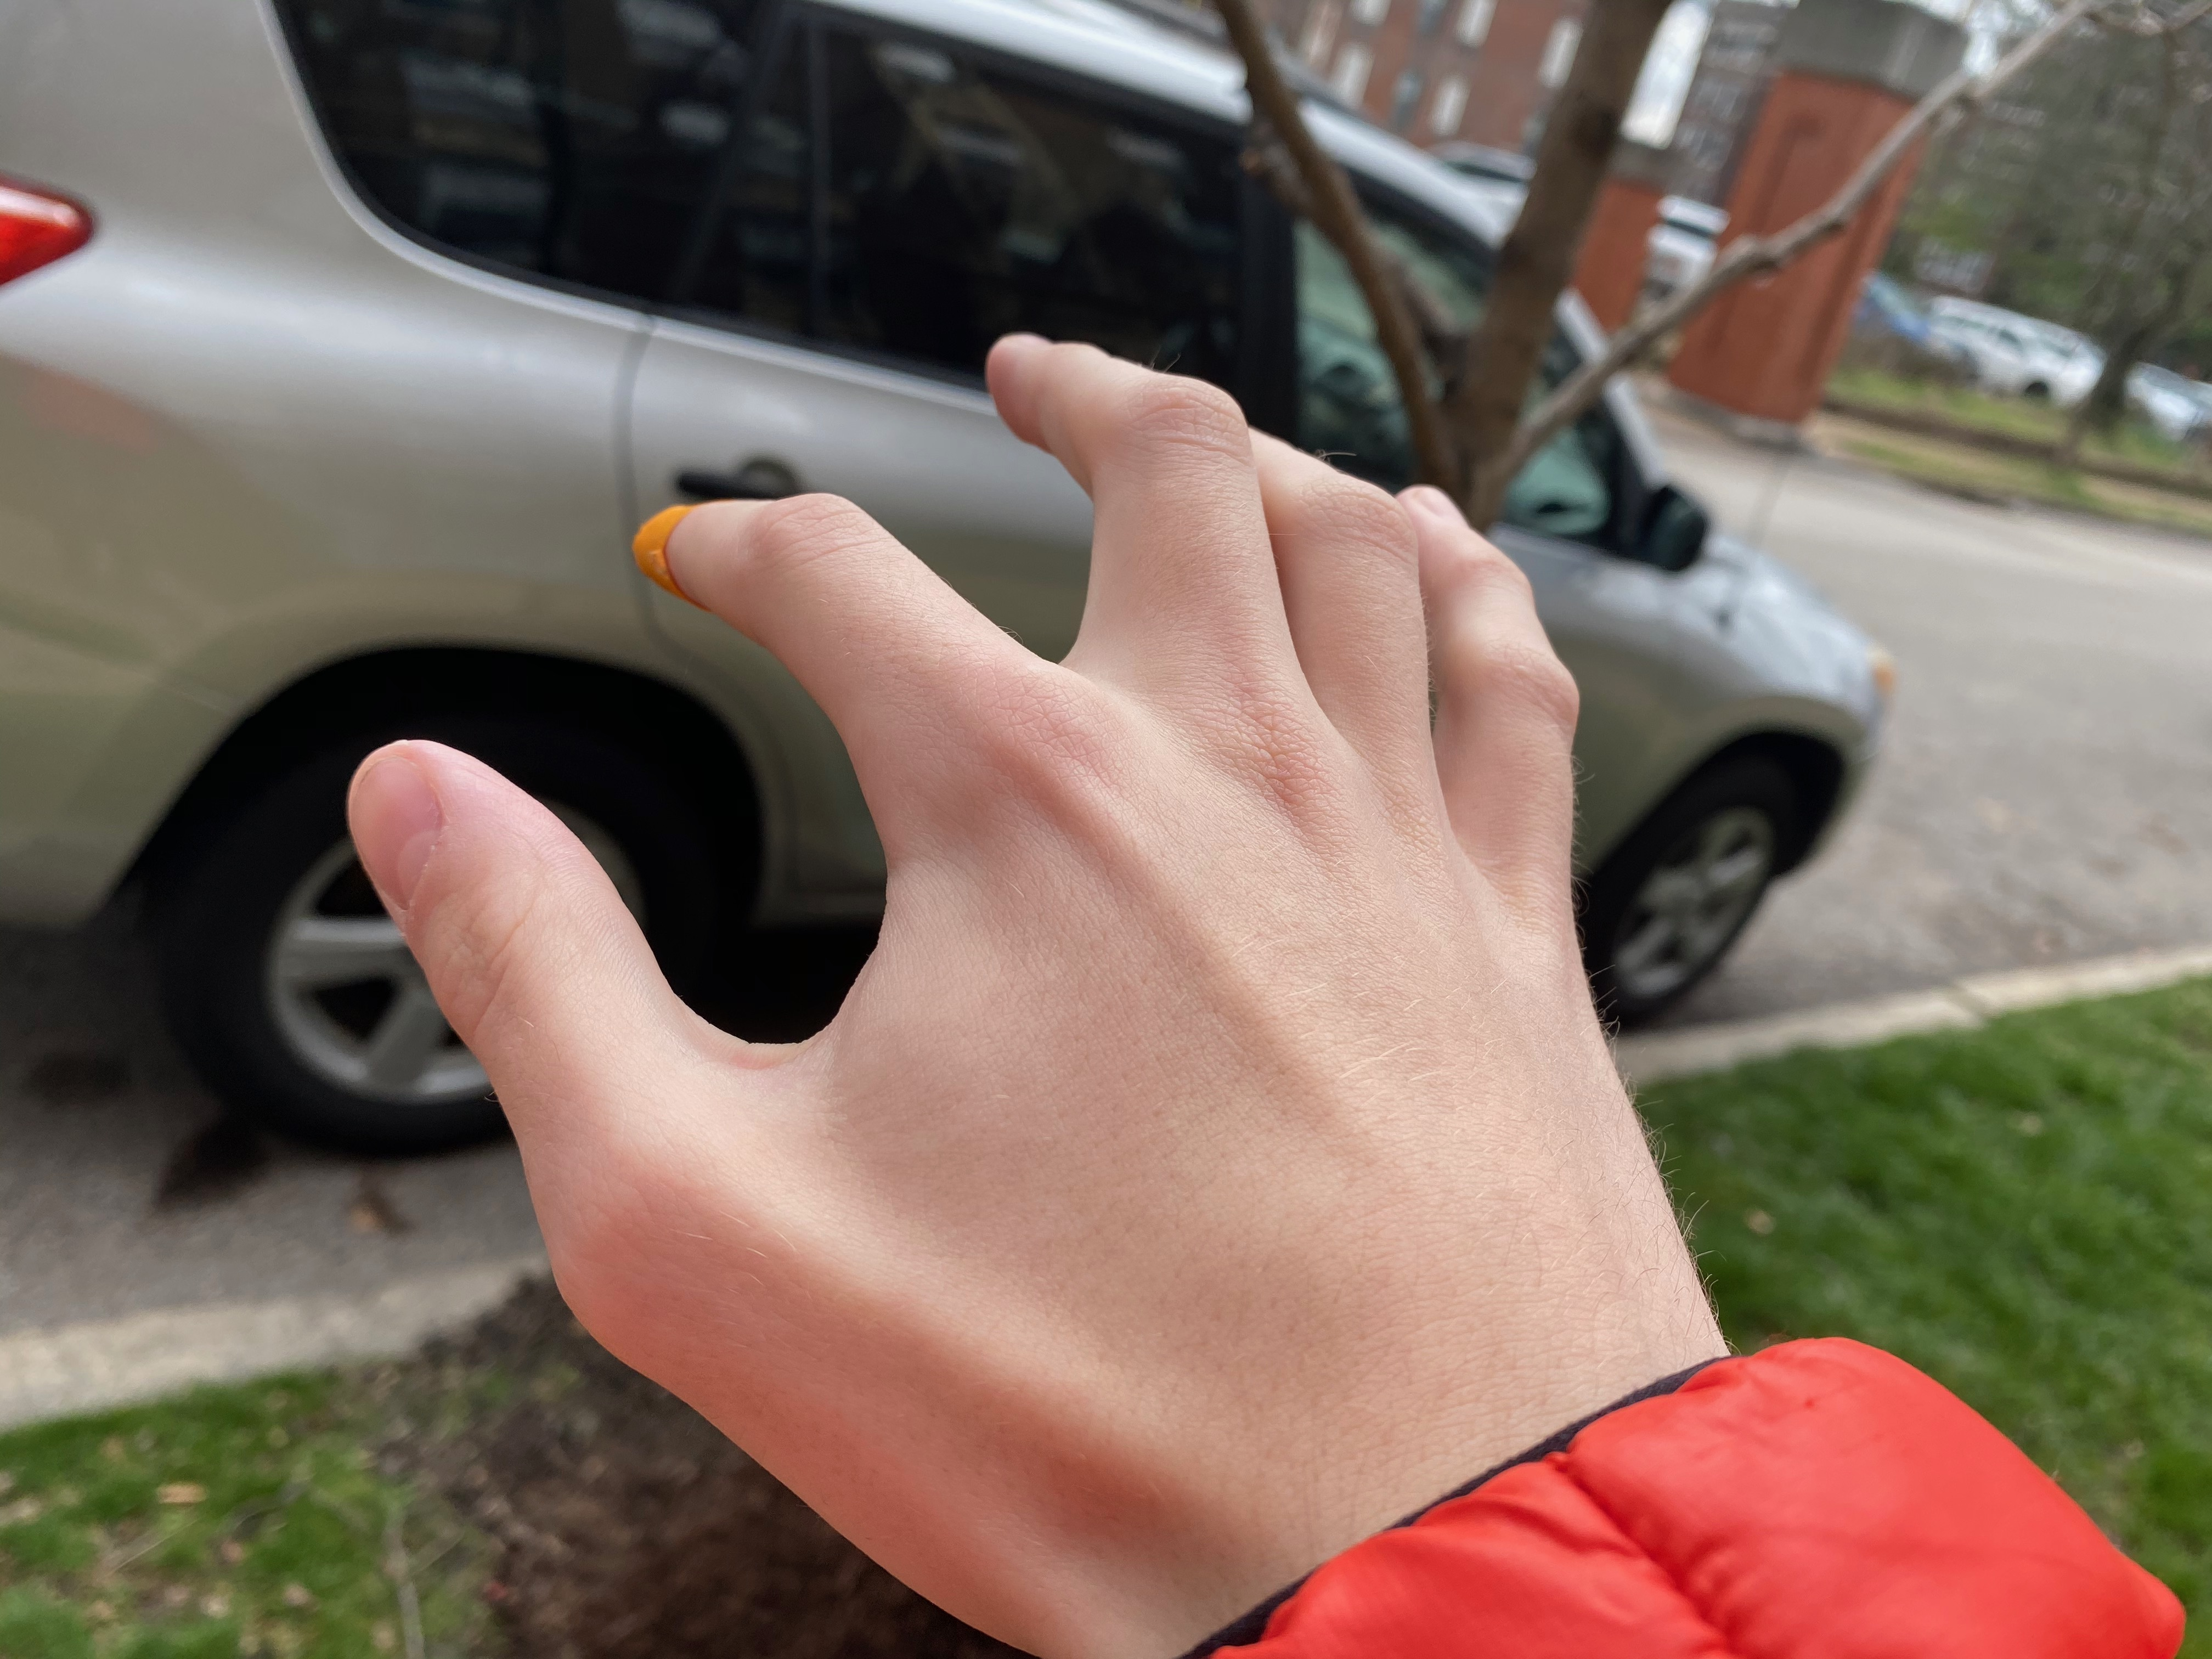fingertip: (590, 490, 763, 627)
